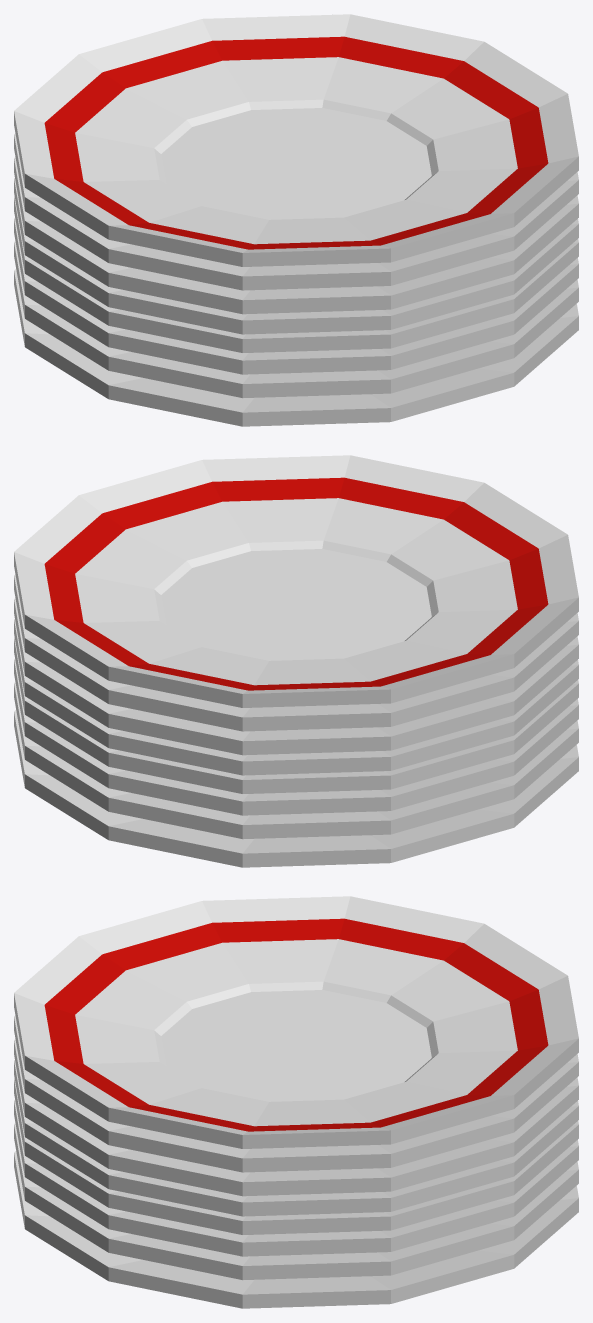
Rendered from C_Plates_Big.fbx.
The picture shows the model from 3 angles, top to bottom: view 1: azimuth 30°, elevation 25°; view 2: azimuth 150°, elevation 25°; view 3: azimuth 270°, elevation 25°; orthographic projection.
Parts seen in each view (by area): view 1: C_Plates_Big; view 2: C_Plates_Big; view 3: C_Plates_Big.
Part boxes in pixels (x1,y1,x2,y2): C_Plates_Big: [14, 14, 578, 426]; C_Plates_Big: [14, 455, 578, 867]; C_Plates_Big: [14, 896, 578, 1308].
Bounding box in the file's own units: 154 × 154 × 62.53.
